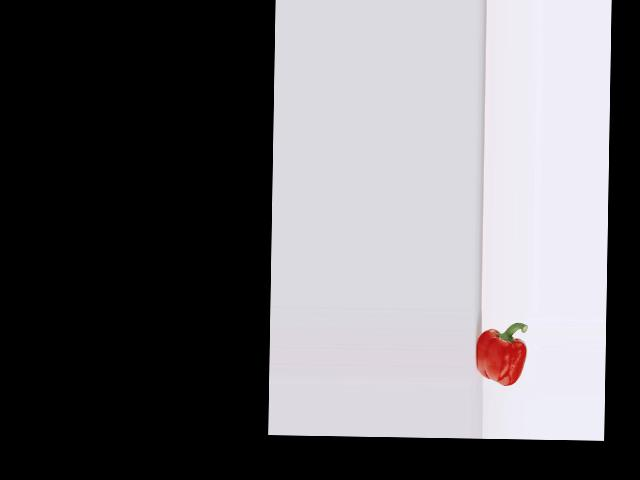bell_pepper: (473, 316, 530, 389)
